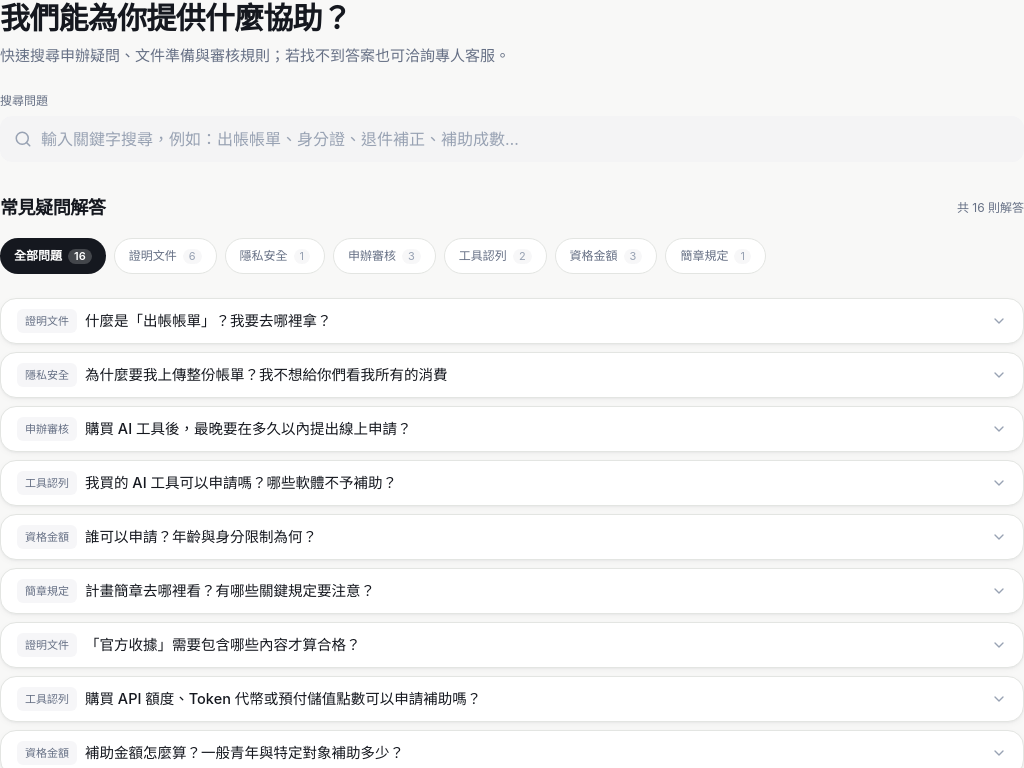
Scenario: HelpPage › 支援輸入搜尋與清除按鈕
The image size is (1024, 768).
Expected: the text "什麼是「出帳帳單」？我要去哪裡拿？" is shown, [85,311,332,331]
Type "整份帳單" into the field labelled "搜尋問題" at (512, 139), box [0,116,1023,162]
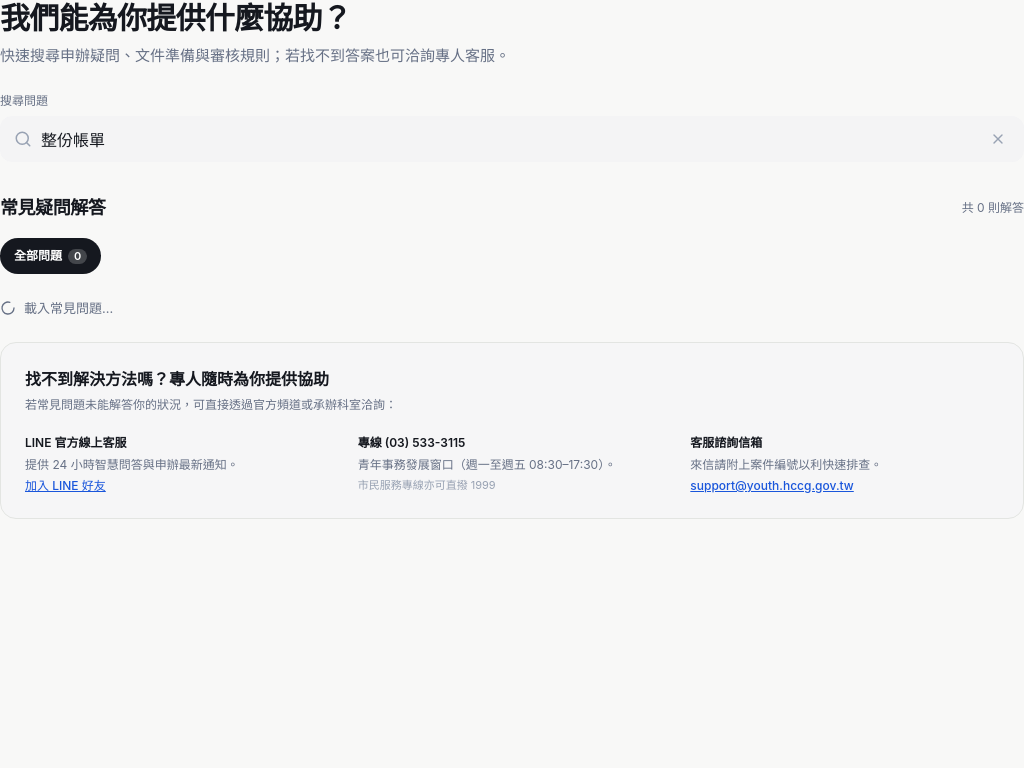
Expected: the heading "什麼是「出帳帳單」？我要去哪裡拿？" is gone
// 點擊清除搜尋按鈕
Click the button named "清除搜尋內容" at (998, 139), box [984,125,1012,153]
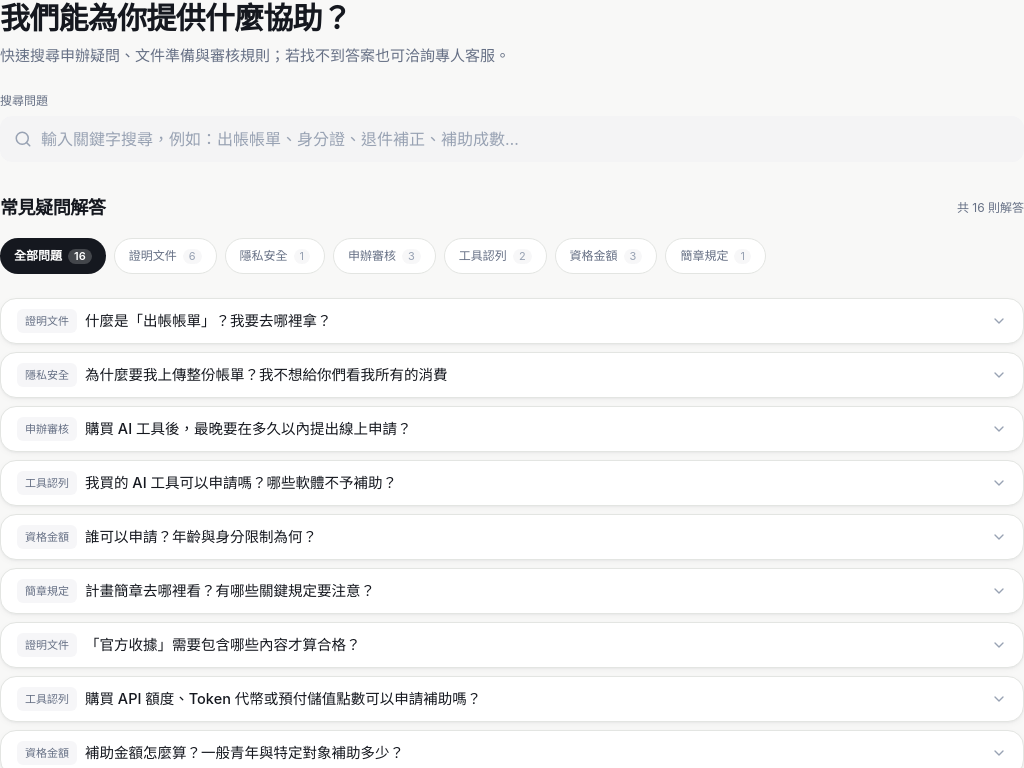
Expected: the text "什麼是「出帳帳單」？我要去哪裡拿？" is shown, [85,311,332,331]
